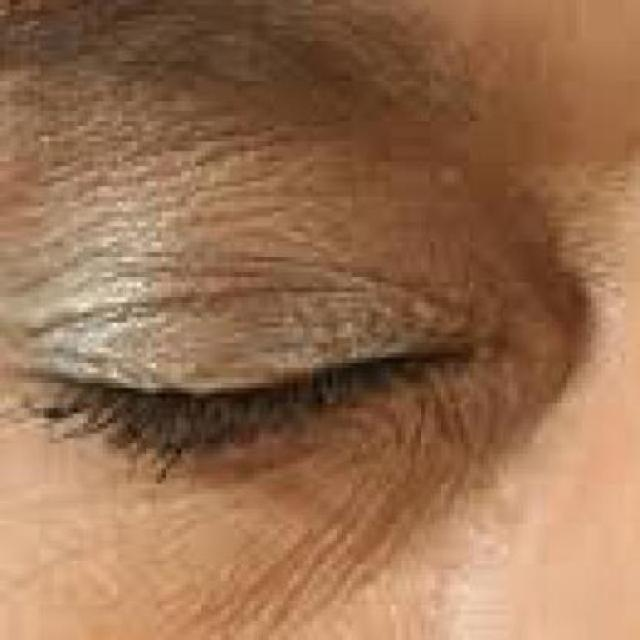drowsy: (24, 255, 478, 527)
